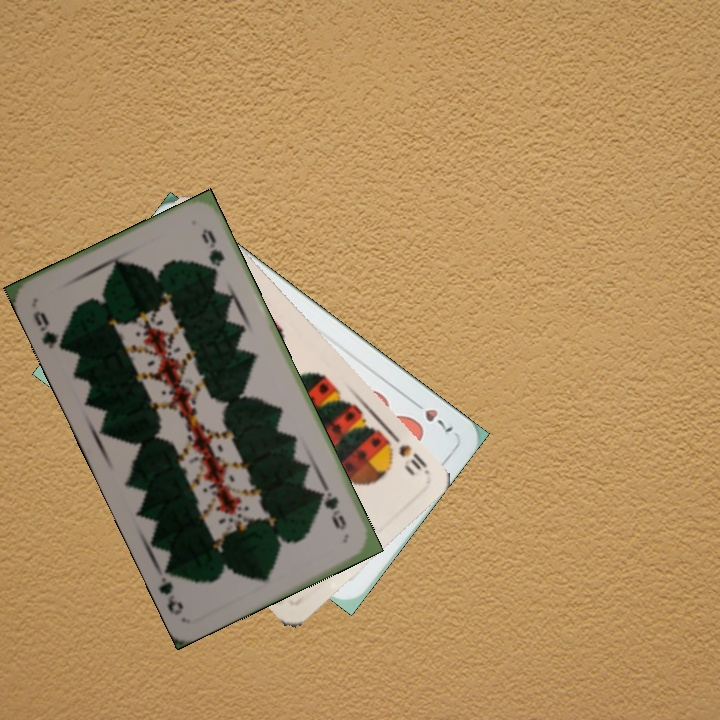G9: (29, 306, 68, 353), (315, 482, 349, 533)
H7: (407, 395, 456, 437)
S10: (380, 428, 431, 476)
